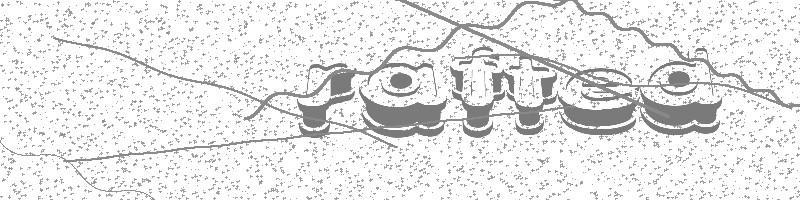a: (358, 61, 448, 139)
d: (639, 46, 723, 136)
e: (558, 66, 638, 136)
f: (449, 45, 507, 139)
r: (296, 62, 355, 139)
t: (504, 54, 557, 137)
